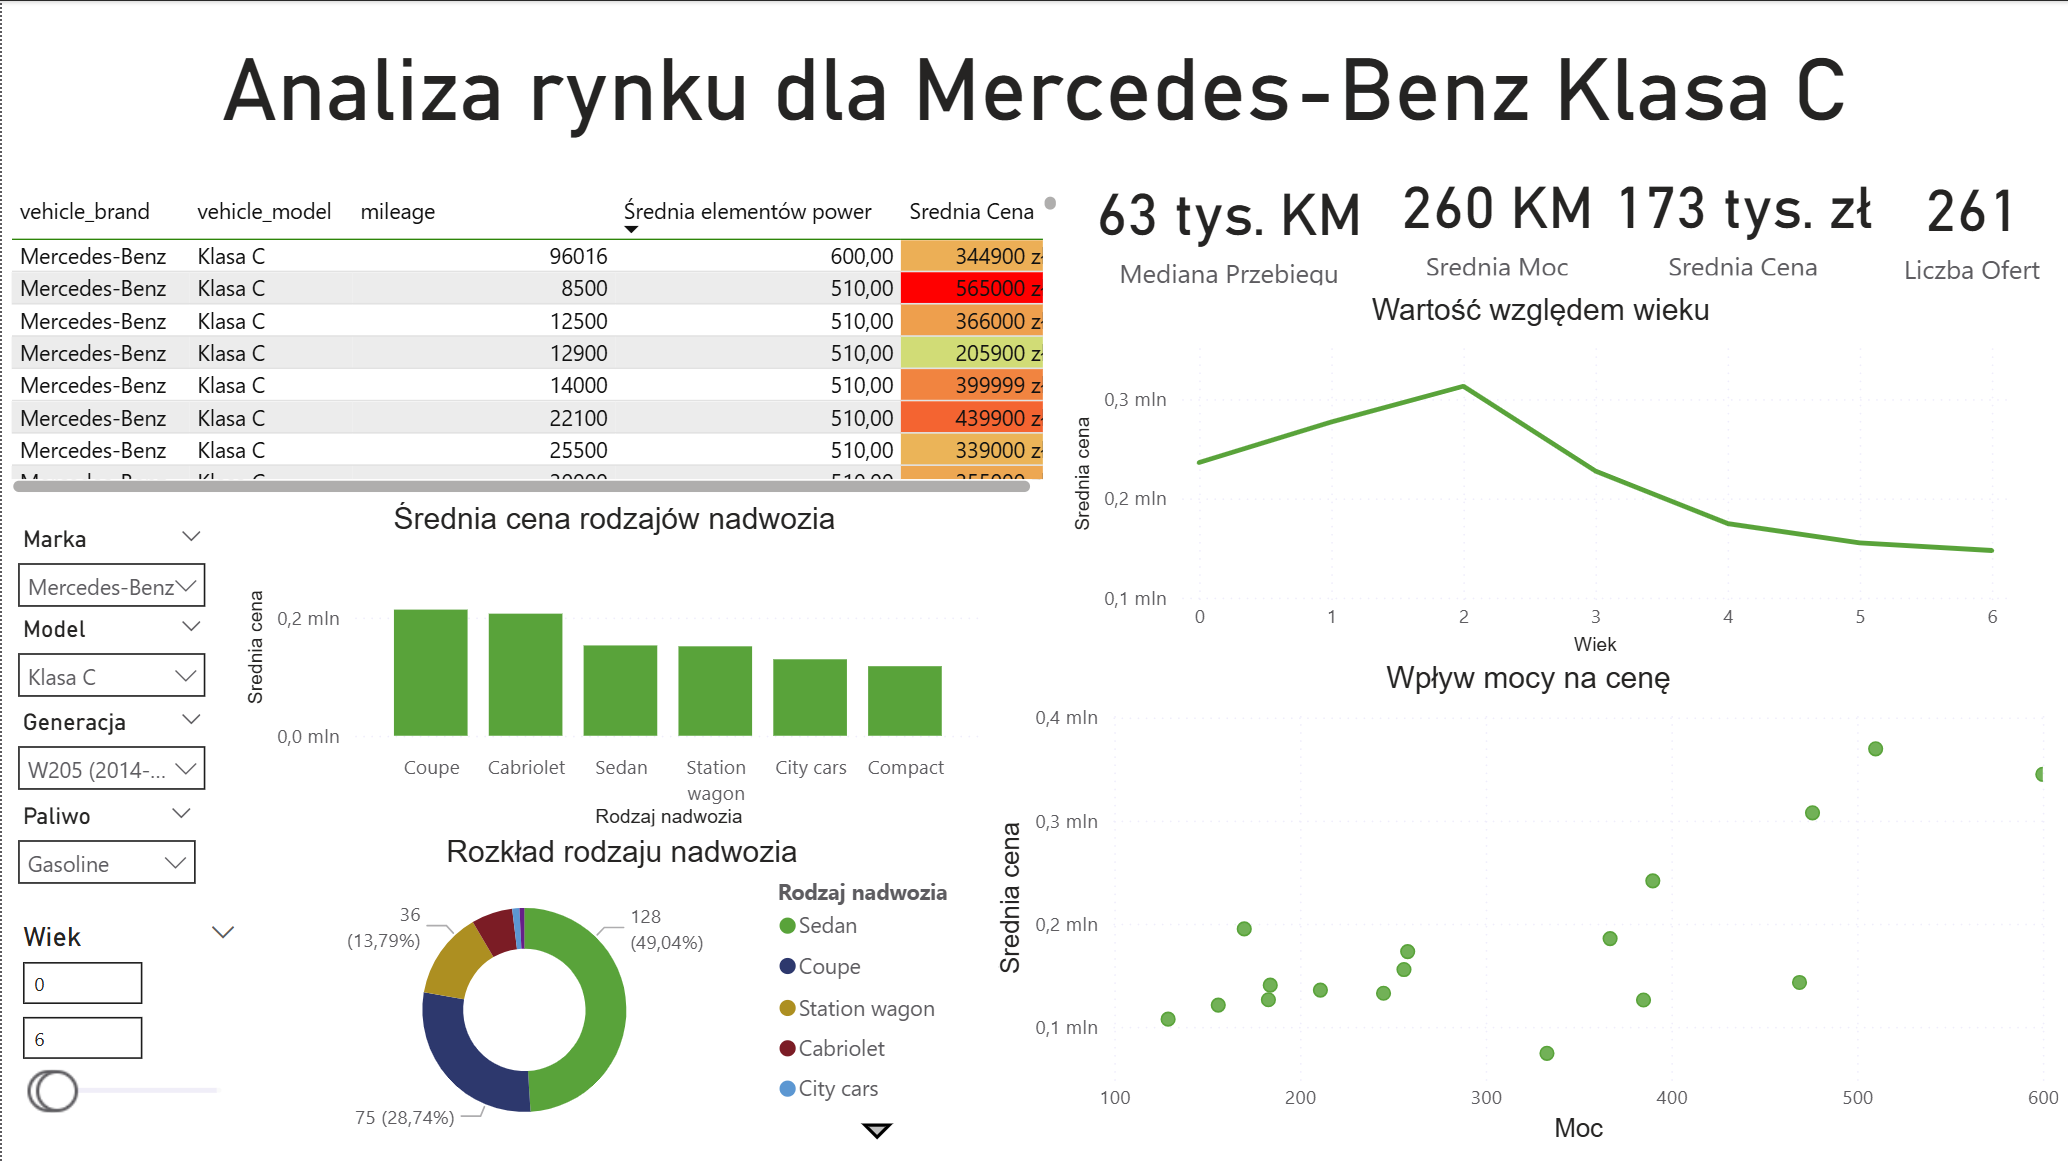

This screenshot's page, from the dashboard's own definition file:
{"tool":"powerbi","page":{"name":"Strona 1","canvas":[1280,720],"ordinal":0},"visuals":[{"type":"card","fields":{"Values":["_Measures.Liczba Ofert"]},"box":[1161.2,96,119,82.4],"z":0},{"type":"card","fields":{"Values":["_Measures.Mediana Przebiegu"]},"box":[659.3,99.1,202,81.8],"z":1000},{"type":"card","fields":{"Values":["_Measures.Srednia Cena"]},"box":[991.4,96,174.7,78.7],"z":2000},{"type":"card","fields":{"Values":["_Measures.Srednia Moc"]},"box":[861.3,96,130.1,78.7],"z":3000},{"type":"slicer","title":"Brand","fields":{"Values":["otomoto_powerbi_data (4).vehicle_brand"]},"box":[0,320.3,136.3,60.7],"z":4000},{"type":"slicer","title":"Model","fields":{"Values":["otomoto_powerbi_data (4).vehicle_model"]},"box":[0,376.1,136.3,65.7],"z":5000},{"type":"slicer","title":"Age","fields":{"Values":["otomoto_powerbi_data (4).vehicle_age"]},"box":[0,564.5,156.8,155.5],"z":6000},{"type":"slicer","title":"Fuel type ","fields":{"Values":["otomoto_powerbi_data (4).fuel_type"]},"box":[0,492,130.1,61.3],"z":7000},{"type":"lineChart","title":"Wartość względem wieku","fields":{"Category":["otomoto_powerbi_data (4).vehicle_age"],"Y":["Avg(otomoto_powerbi_data (4).price)"]},"box":[659.3,180.9,588.6,229.3],"z":8000},{"type":"slicer","title":"Generation","fields":{"Values":["otomoto_powerbi_data (4).generation"]},"box":[0,433.7,136.3,58.2],"z":9000},{"type":"scatterChart","title":"Wpływ mocy na cenę","fields":{"Y":["Avg(otomoto_powerbi_data (4).price)"],"X":["otomoto_powerbi_data (4).power"]},"box":[612.2,409,667.3,303.6],"z":10000},{"type":"donutChart","title":"Rozkład rodzaju nadwozia","fields":{"Category":["otomoto_powerbi_data (4).body_type"],"Y":["CountNonNull(otomoto_powerbi_data (4).body_type)"]},"box":[161.7,516.8,444.9,195.8],"z":11000},{"type":"columnChart","title":"Średnia cena rodzajów nadwozia","fields":{"Category":["otomoto_powerbi_data (4).body_type"],"Y":["Avg(otomoto_powerbi_data (4).price)"]},"box":[146.9,310.4,465.3,206.3],"z":12000},{"type":"tableEx","fields":{"Values":["otomoto_powerbi_data (4).vehicle_brand","otomoto_powerbi_data (4).vehicle_model","otomoto_powerbi_data (4).mileage","Avg(otomoto_powerbi_data (4).power)","_Measures.Srednia Cena"]},"box":[0,115.2,659.3,195.2],"z":13000},{"type":"card","fields":{"Values":["_Measures.Tytuł"]},"box":[0,0,1279.5,96],"z":14000}]}

Visuals, with their boxes in screenshot pixels (x1, y1, x2, y2), scaled from the page's 1280x720 canvas onto the 2068x1162 screenshot:
card - _Measures.Liczba Ofert: select_region(1876, 155, 2067, 288)
card - _Measures.Mediana Przebiegu: select_region(1065, 160, 1392, 292)
card - _Measures.Srednia Cena: select_region(1602, 155, 1884, 282)
card - _Measures.Srednia Moc: select_region(1392, 155, 1602, 282)
"Brand" slicer: select_region(0, 517, 220, 615)
"Model" slicer: select_region(0, 607, 220, 713)
"Age" slicer: select_region(0, 911, 253, 1161)
"Fuel type " slicer: select_region(0, 794, 210, 893)
"Wartość względem wieku" lineChart: select_region(1065, 292, 2016, 662)
"Generation" slicer: select_region(0, 700, 220, 794)
"Wpływ mocy na cenę" scatterChart: select_region(989, 660, 2067, 1150)
"Rozkład rodzaju nadwozia" donutChart: select_region(261, 834, 980, 1150)
"Średnia cena rodzajów nadwozia" columnChart: select_region(237, 501, 989, 834)
tableEx - otomoto_powerbi_data (4).vehicle_brand x otomoto_powerbi_data (4).vehicle_model: select_region(0, 186, 1065, 501)
card - _Measures.Tytuł: select_region(0, 0, 2067, 155)
